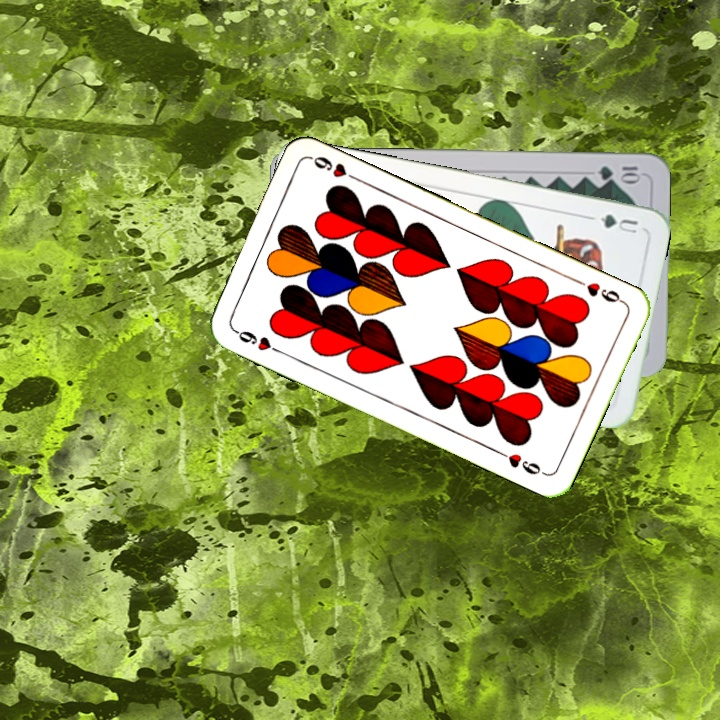G10: (594, 162, 644, 183)
GU: (595, 210, 641, 236)
H9: (229, 325, 285, 356), (572, 275, 627, 306)
